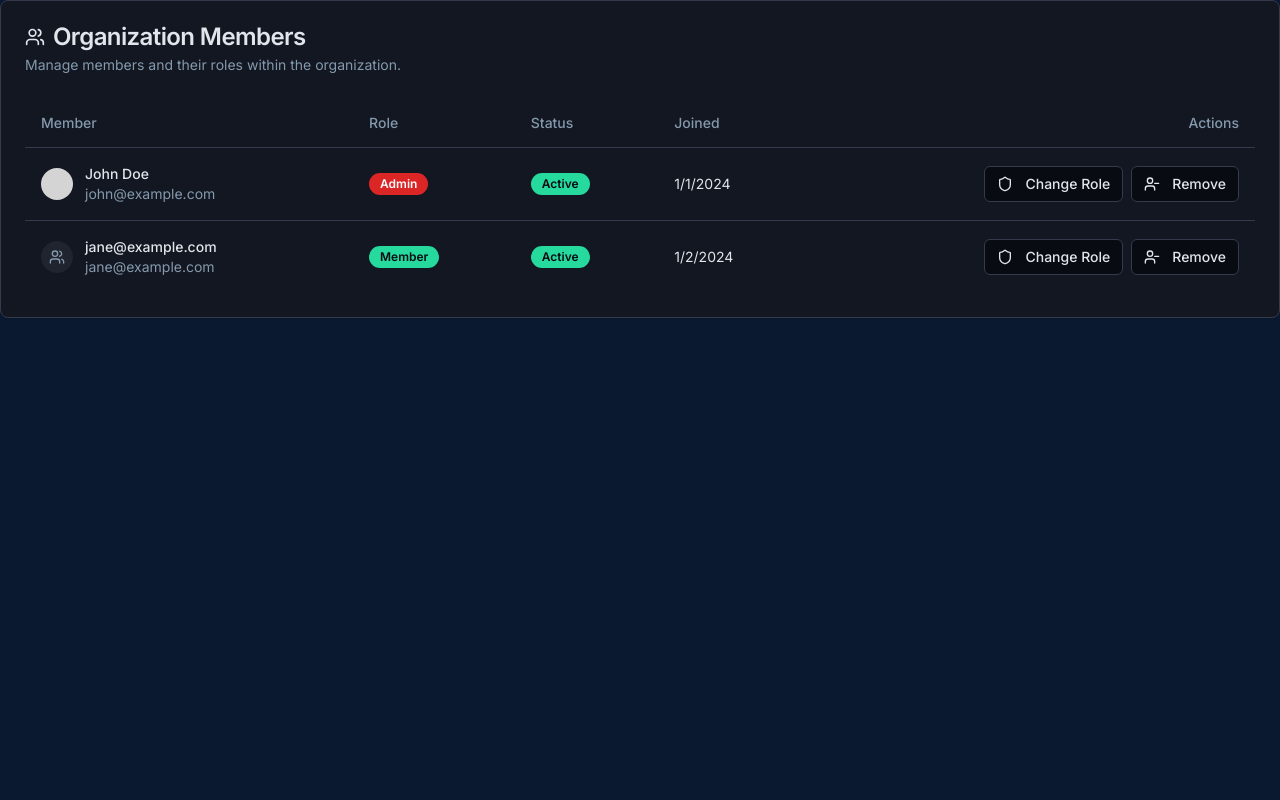
MemberManagement › opens remove member dialog
What coordinates should you click on to do the following:
click the button "Remove" in the row of "John Doe"
I would click on:
 (1185, 184)
Its box is [1131,166,1239,202].
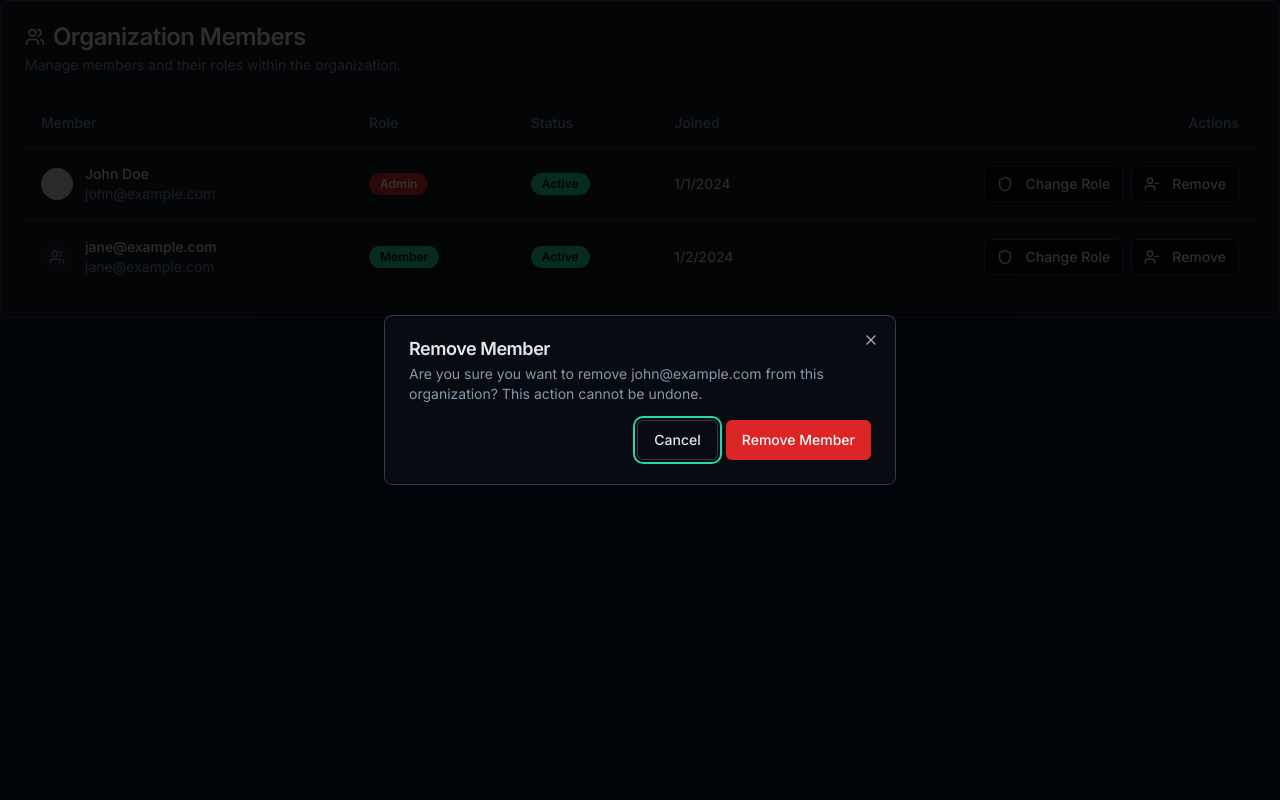
Now the heading "Remove Member" is shown, box [409,338,550,359]
